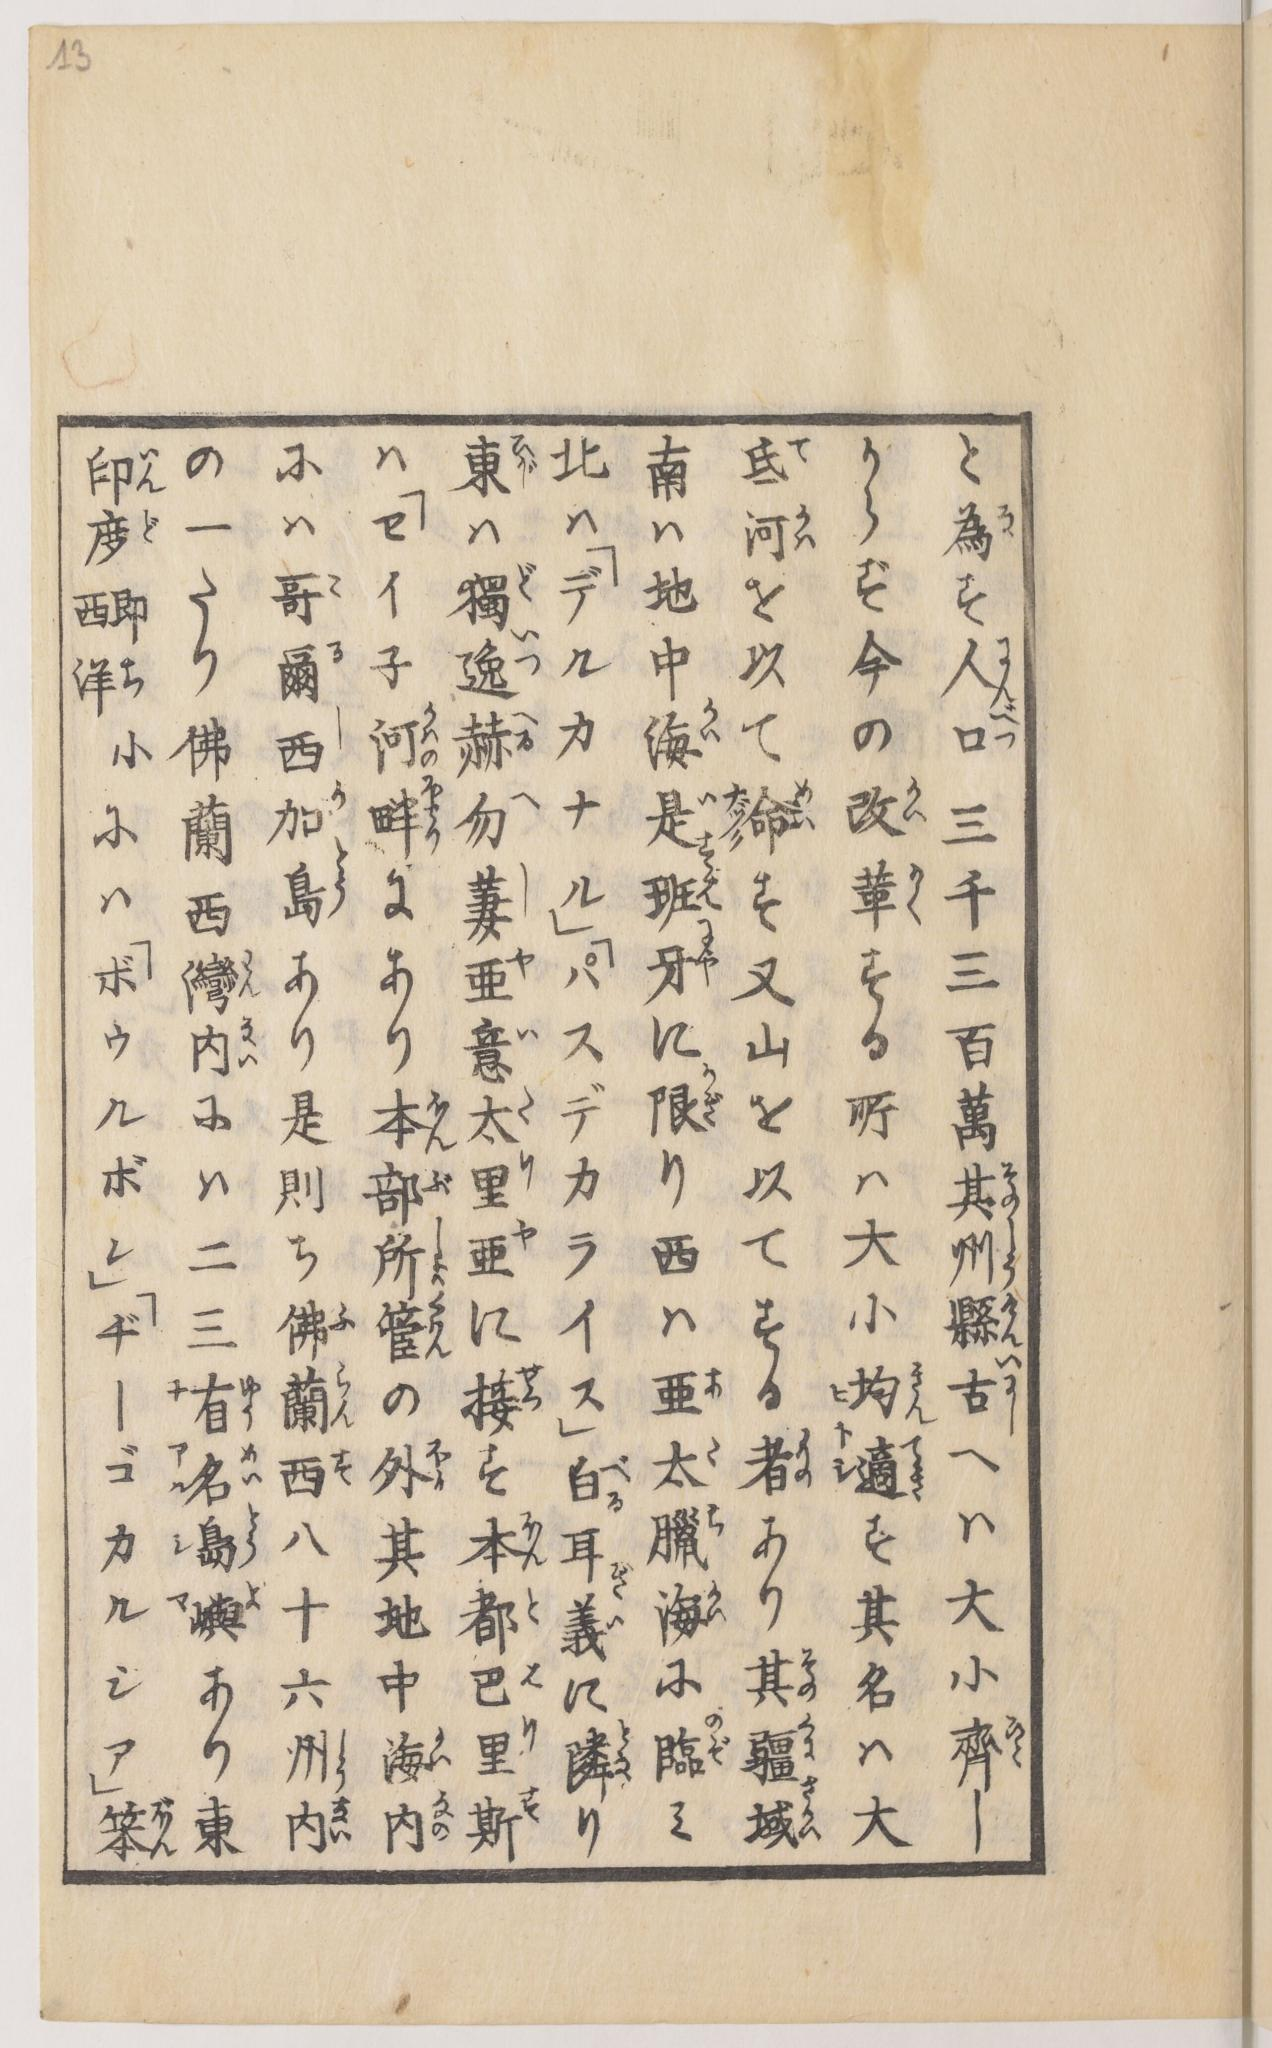MainZone-Character: (445, 627, 547, 703), (936, 1711, 1026, 1792), (467, 1783, 551, 1866), (273, 841, 355, 926), (645, 834, 727, 919), (462, 1361, 547, 1442), (743, 779, 825, 861), (366, 689, 445, 773), (649, 914, 725, 1002), (372, 1790, 462, 1865), (447, 560, 545, 627), (847, 850, 931, 929), (368, 776, 443, 864), (742, 1773, 827, 1849), (649, 1708, 739, 1780), (642, 696, 727, 771), (848, 1357, 938, 1427), (558, 1718, 640, 1795), (360, 1159, 454, 1225), (843, 771, 931, 841), (851, 1428, 931, 1506), (648, 1068, 728, 1144), (374, 1084, 457, 1156), (273, 1291, 363, 1357), (265, 639, 350, 709), (369, 1289, 451, 1361), (560, 1524, 636, 1600), (939, 492, 1023, 561), (643, 1500, 728, 1567), (953, 1357, 1027, 1433), (265, 778, 353, 842), (186, 1579, 268, 1648), (740, 1644, 824, 1711), (193, 1499, 268, 1573), (654, 1573, 728, 1648), (78, 441, 173, 500), (177, 949, 264, 1014), (62, 652, 148, 716), (453, 709, 545, 769), (97, 1797, 185, 1860), (465, 1510, 550, 1575), (947, 1219, 1024, 1289), (942, 1291, 1029, 1354), (363, 1228, 451, 1289), (737, 504, 821, 568), (457, 861, 529, 936), (182, 1009, 261, 1077), (743, 1714, 824, 1780), (450, 432, 532, 497), (79, 505, 167, 565), (283, 1362, 356, 1434), (378, 1720, 454, 1789), (944, 636, 1021, 703), (284, 1790, 363, 1856), (560, 1446, 633, 1516), (749, 1422, 819, 1496), (557, 1595, 633, 1663), (462, 785, 547, 845), (374, 1437, 454, 1500), (467, 1582, 542, 1650), (193, 1437, 270, 1503), (950, 1154, 1024, 1220), (281, 1724, 358, 1789), (466, 1014, 538, 1080), (457, 943, 538, 1002), (470, 1717, 545, 1780), (944, 702, 1026, 759), (652, 782, 724, 845), (648, 1430, 724, 1488), (189, 1367, 255, 1434), (737, 426, 815, 483), (278, 1449, 359, 1503), (649, 1362, 728, 1417), (268, 568, 352, 620), (466, 1086, 538, 1144), (466, 1151, 542, 1204), (469, 1660, 547, 1710)
MainZone-Ruby: (421, 1083, 457, 1153), (696, 825, 724, 916), (148, 1796, 183, 1862), (903, 1358, 936, 1425), (601, 1450, 635, 1513), (699, 1708, 734, 1768), (236, 1500, 262, 1573), (421, 776, 445, 853), (996, 1156, 1027, 1217), (904, 857, 928, 935), (998, 1357, 1024, 1425), (330, 1362, 356, 1431), (136, 441, 169, 497), (330, 841, 353, 917), (901, 1433, 926, 1503), (426, 1217, 451, 1288), (797, 1774, 822, 1844), (325, 1793, 358, 1847), (421, 1292, 447, 1358), (613, 1717, 637, 1786), (425, 1440, 456, 1496), (519, 1505, 545, 1569), (696, 917, 721, 984), (1001, 1707, 1027, 1770), (419, 697, 441, 772), (234, 1370, 262, 1428), (901, 773, 929, 829), (799, 1647, 827, 1702), (699, 1065, 722, 1131), (509, 628, 541, 675), (791, 778, 818, 835), (986, 703, 1020, 747), (234, 1017, 261, 1072), (237, 1439, 267, 1488), (425, 1726, 454, 1776), (421, 1166, 459, 1204), (995, 637, 1017, 703), (513, 858, 536, 920), (428, 1789, 454, 1843), (794, 1424, 816, 1488), (794, 502, 819, 558), (511, 432, 536, 486), (237, 948, 262, 1002), (509, 708, 538, 753), (520, 1362, 547, 1412), (328, 1444, 358, 1488), (698, 694, 721, 747), (999, 1223, 1018, 1288), (114, 652, 145, 691), (514, 1084, 539, 1131), (613, 1554, 637, 1600), (996, 1296, 1018, 1348), (331, 1296, 360, 1335), (510, 785, 539, 822), (520, 1780, 544, 1824), (797, 1715, 819, 1762), (336, 1729, 353, 1786), (522, 1661, 548, 1699), (516, 558, 538, 602), (139, 510, 164, 548), (994, 502, 1018, 539), (327, 565, 352, 602), (785, 429, 813, 461), (523, 1587, 547, 1625), (520, 1713, 542, 1752), (703, 1362, 727, 1399), (510, 943, 532, 982), (520, 1147, 539, 1191), (708, 1582, 727, 1626), (513, 1020, 541, 1047), (703, 1500, 725, 1534), (705, 1436, 724, 1469), (327, 634, 347, 664), (242, 1584, 259, 1617), (604, 1613, 627, 1632), (333, 781, 346, 806), (698, 787, 717, 803)
